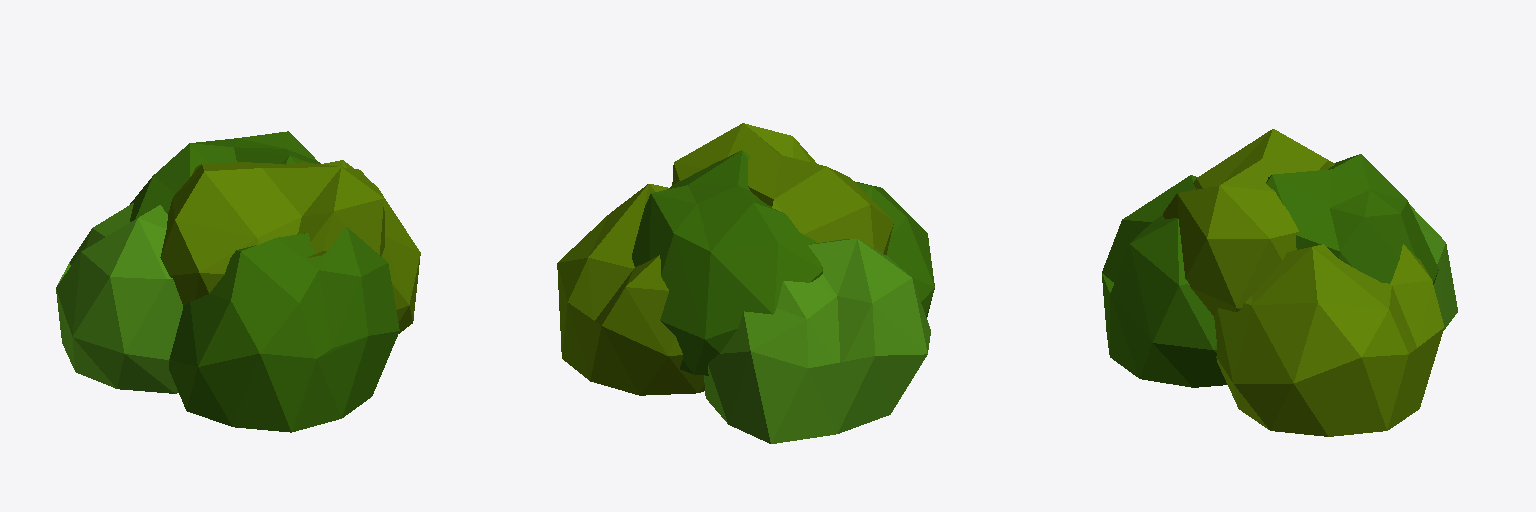
3 views of the same model, side by side, from view 1: azimuth 30°, elevation 25°; view 2: azimuth 150°, elevation 25°; view 3: azimuth 270°, elevation 25° (orthographic).
Parts seen in each view (by area): view 1: Bush; view 2: Bush; view 3: Bush.
Part boxes in pixels (x1,y1,x2,y2): Bush: (56,131,420,432); Bush: (557,123,934,443); Bush: (1102,129,1457,436).
Bounding box in the file's own units: 0.55 × 0.3079 × 0.4947.
1 materials, 1 textured.